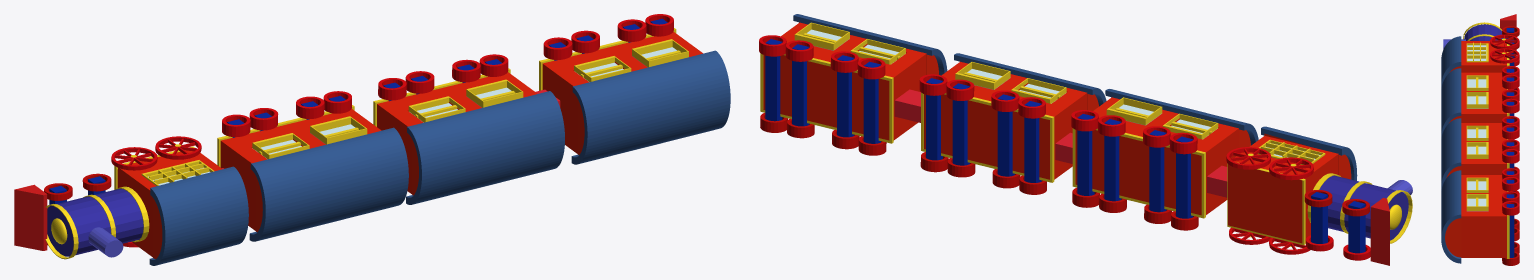
File: tinker.obj
3 renders of one model, left to right at view 1: azimuth 30°, elevation 25°; view 2: azimuth 150°, elevation 25°; view 3: azimuth 270°, elevation 25°, orthographic. The views are drawn at different scales.
Parts seen in each view (by area): view 1: group_0_3036559, group_0_15407874, group_0_16768282, group_0_14876679, group_0_3354275, group_0_14226453, group_0_15408642, group_0_9126, group_0_14416127, group_0_13370368, group_0_5395399; view 2: group_0_15407874, group_0_9126, group_0_16768282, group_0_14876679, group_0_13370368, group_0_3036559, group_0_3354275, group_0_15277357, group_0_14416127, group_0_14226453, group_0_15408642; view 3: group_0_15407874, group_0_3036559, group_0_14876679, group_0_16768282, group_0_14416127, group_0_9126, group_0_15408642, group_0_13370368, group_0_3354275, group_0_14226453.
Boxes of the visible parts, x1,y1,x2,y2 form: group_0_3036559: [149, 50, 730, 265]; group_0_15407874: [117, 31, 702, 257]; group_0_16768282: [45, 28, 688, 259]; group_0_14876679: [47, 14, 673, 247]; group_0_3354275: [47, 188, 143, 256]; group_0_14226453: [14, 184, 47, 250]; group_0_15408642: [153, 100, 584, 258]; group_0_9126: [49, 18, 667, 204]; group_0_14416127: [148, 47, 676, 185]; group_0_13370368: [44, 173, 111, 200]; group_0_5395399: [88, 227, 123, 257]; group_0_15407874: [763, 22, 1338, 243]; group_0_9126: [765, 39, 1365, 253]; group_0_16768282: [760, 22, 1412, 246]; group_0_14876679: [759, 35, 1370, 260]; group_0_13370368: [760, 113, 1369, 230]; group_0_3036559: [793, 14, 1357, 180]; group_0_3354275: [1319, 175, 1408, 240]; group_0_15277357: [894, 89, 1227, 197]; group_0_14416127: [807, 29, 1320, 159]; group_0_14226453: [1370, 198, 1389, 265]; group_0_15408642: [799, 22, 1351, 179]; group_0_15407874: [1461, 41, 1506, 257]; group_0_3036559: [1441, 36, 1461, 263]; group_0_14876679: [1490, 34, 1519, 215]; group_0_16768282: [1463, 22, 1509, 258]; group_0_14416127: [1467, 45, 1488, 211]; group_0_9126: [1506, 28, 1514, 257]; group_0_15408642: [1445, 66, 1461, 257]; group_0_13370368: [1502, 26, 1519, 265]; group_0_3354275: [1464, 24, 1505, 40]; group_0_14226453: [1500, 14, 1516, 54].
Bounding box in the file's own units: 493 × 66 × 79.
